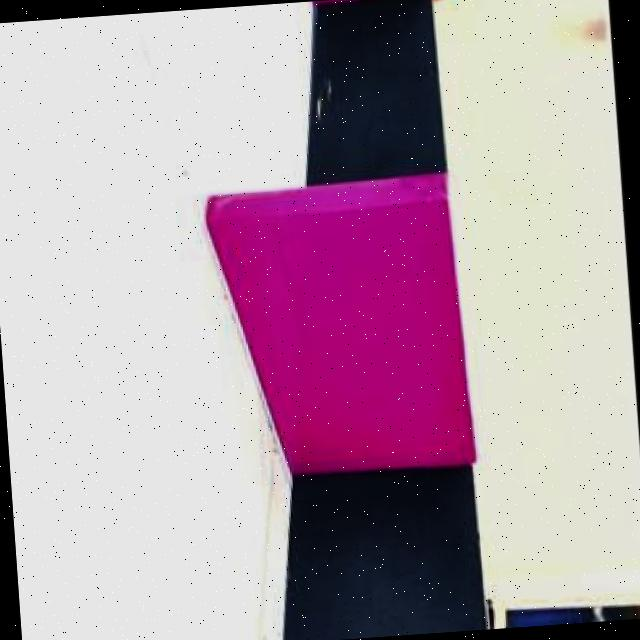xparking: (237, 176, 466, 478)
